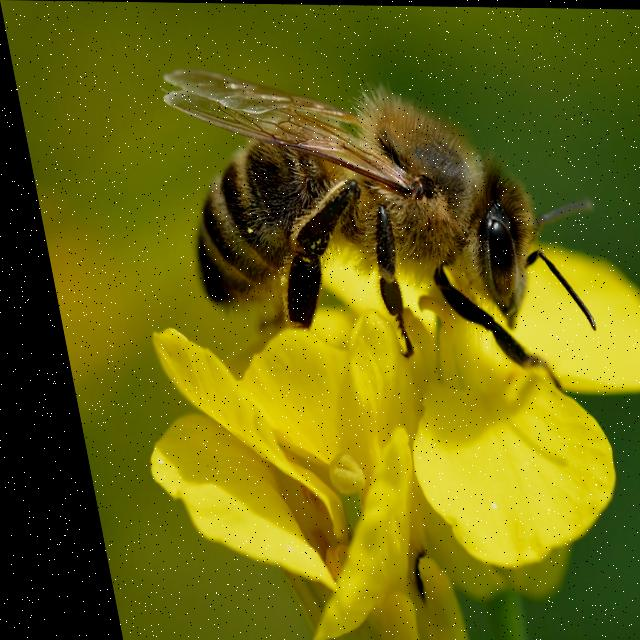Apis-mellifera-scutellata: (107, 29, 635, 391)
